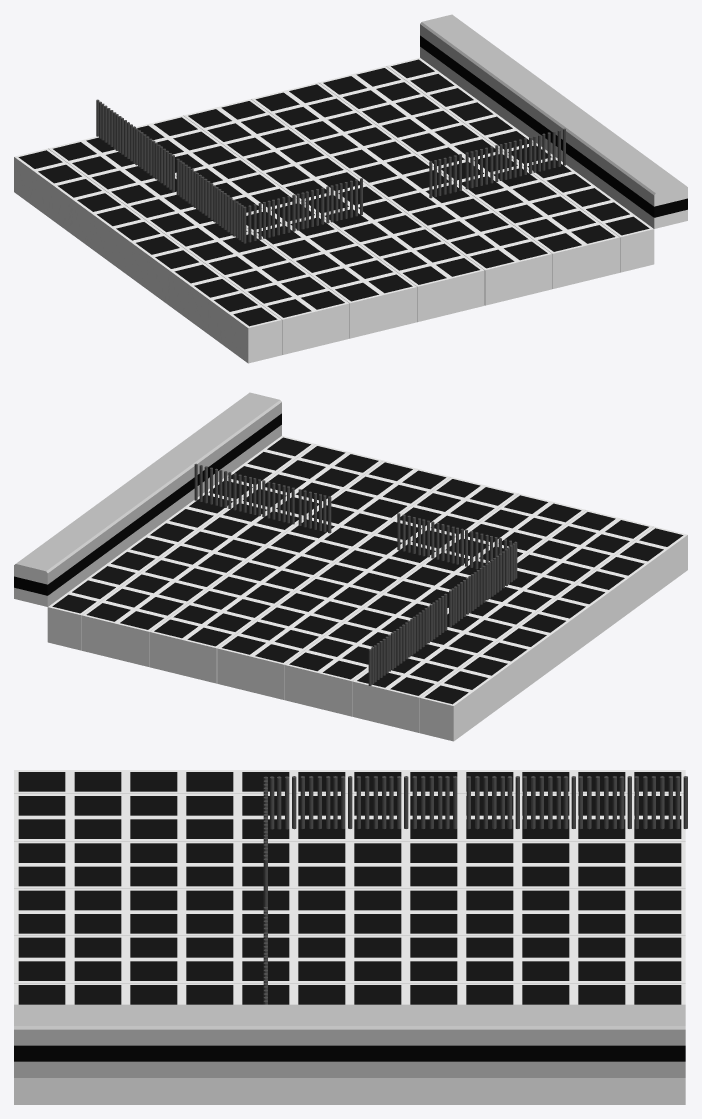
File: prisonLarge.fbx
3 views of the same model, one above another, from view 1: azimuth 30°, elevation 25°; view 2: azimuth 150°, elevation 25°; view 3: azimuth 270°, elevation 25° (orthographic). The views are drawn at different scales.
Visible parts, largest first — view 1: Cube.144, Cube.174, Cube.134, Cube.138, Cube.137, Cube.143, Cube.139, Cube.142, Cube.141, Cube.136, Cube.145, Cube.135 (+131 smaller); view 2: Cube.024, Cube.011, Cube.002, Cube.017, Cube.021, Cube.016, Cube.022, Cube.019, Cube.018, Cube.025, Cube.020, Cube.015 (+131 smaller); view 3: Cube.011, Cube.182, Cube.007, Cube.174, Cube.175, Cube.176, Cube.177, Cube.178, Cube.179, Cube.180, Cube.181, Cube.184 (+140 smaller).
Boxes of the visible parts, box(x1,y1,x2,y2) form: Cube.144: box(228, 305, 281, 363); Cube.174: box(634, 171, 687, 228); Cube.134: box(601, 215, 654, 272); Cube.138: box(398, 264, 451, 321); Cube.137: box(533, 231, 586, 288); Cube.143: box(296, 289, 349, 346); Cube.139: box(364, 272, 417, 330); Cube.142: box(330, 281, 383, 338); Cube.141: box(465, 248, 518, 305); Cube.136: box(499, 239, 552, 297); Cube.145: box(263, 297, 315, 354); Cube.135: box(567, 223, 619, 280); Cube.024: box(420, 683, 473, 741); Cube.011: box(14, 549, 67, 606); Cube.002: box(47, 593, 100, 650); Cube.017: box(115, 609, 168, 666); Cube.021: box(183, 626, 236, 683); Cube.016: box(149, 617, 202, 675); Cube.022: box(318, 659, 368, 716); Cube.019: box(284, 650, 337, 708); Cube.018: box(250, 642, 303, 699); Cube.025: box(386, 675, 438, 732); Cube.020: box(217, 634, 269, 691); Cube.015: box(82, 601, 134, 658); Cube.011: box(629, 1004, 685, 1077); Cube.182: box(573, 1004, 629, 1077); Cube.007: box(462, 1004, 517, 1077); Cube.174: box(14, 1004, 69, 1077); Cube.175: box(70, 1004, 125, 1077); Cube.176: box(182, 1004, 237, 1077); Cube.177: box(126, 1004, 181, 1077); Cube.178: box(350, 1004, 405, 1077); Cube.179: box(406, 1004, 461, 1077); Cube.180: box(294, 1004, 349, 1077); Cube.181: box(238, 1004, 293, 1077); Cube.184: box(518, 1004, 573, 1077).
Bounding box in the file's own units: 2602 × 403 × 2408.
